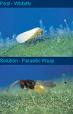whitefly: (15, 26, 45, 45)
